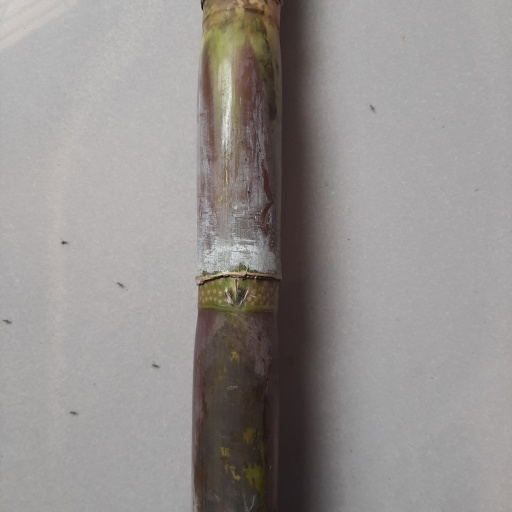Bud: (223, 274, 250, 308)
